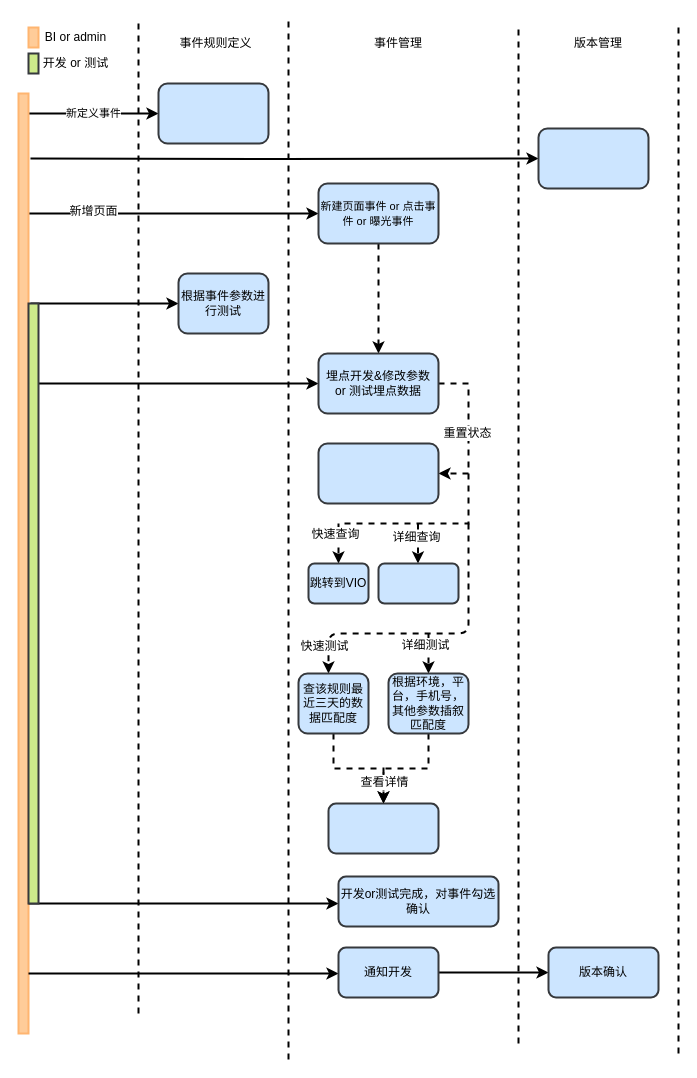
This 697x1078 diagram has some shape labels left out. The shapes that lost their labels are listed below. From the top down, each one's centre as x and y in pixels, then its label:
At (x=213, y=113): "选择事件分类列表，新设置一个event_id".
At (x=593, y=158): "新增版本".
At (x=378, y=473): "回滚到上一个版本的事件记录".
At (x=418, y=583): "根据参数查近三天的数据".
At (x=383, y=828): "查看不匹配的数据".
